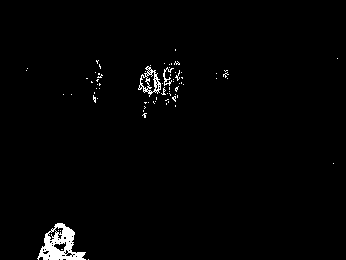person: (138, 62, 161, 118), (161, 58, 184, 109)
